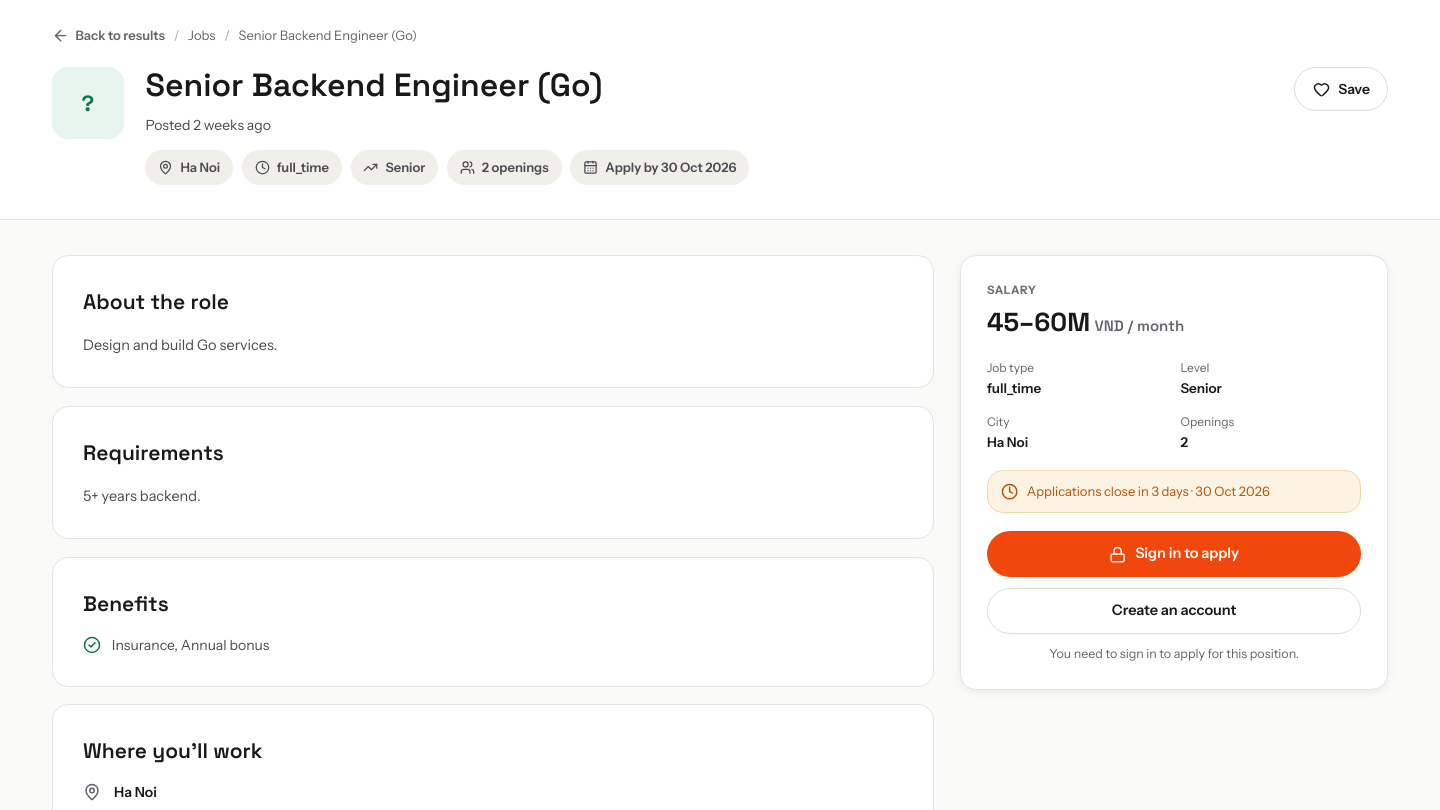
Scenario: CareerJobPage Save Job Integration › intercepts unauthenticated guests and opens sign-in modal with next url
What coordinates should you click on to do the following:
click the button "Save"
I would click on:
 (1341, 89)
Its box is x1=1294 y1=67 x2=1388 y2=111.
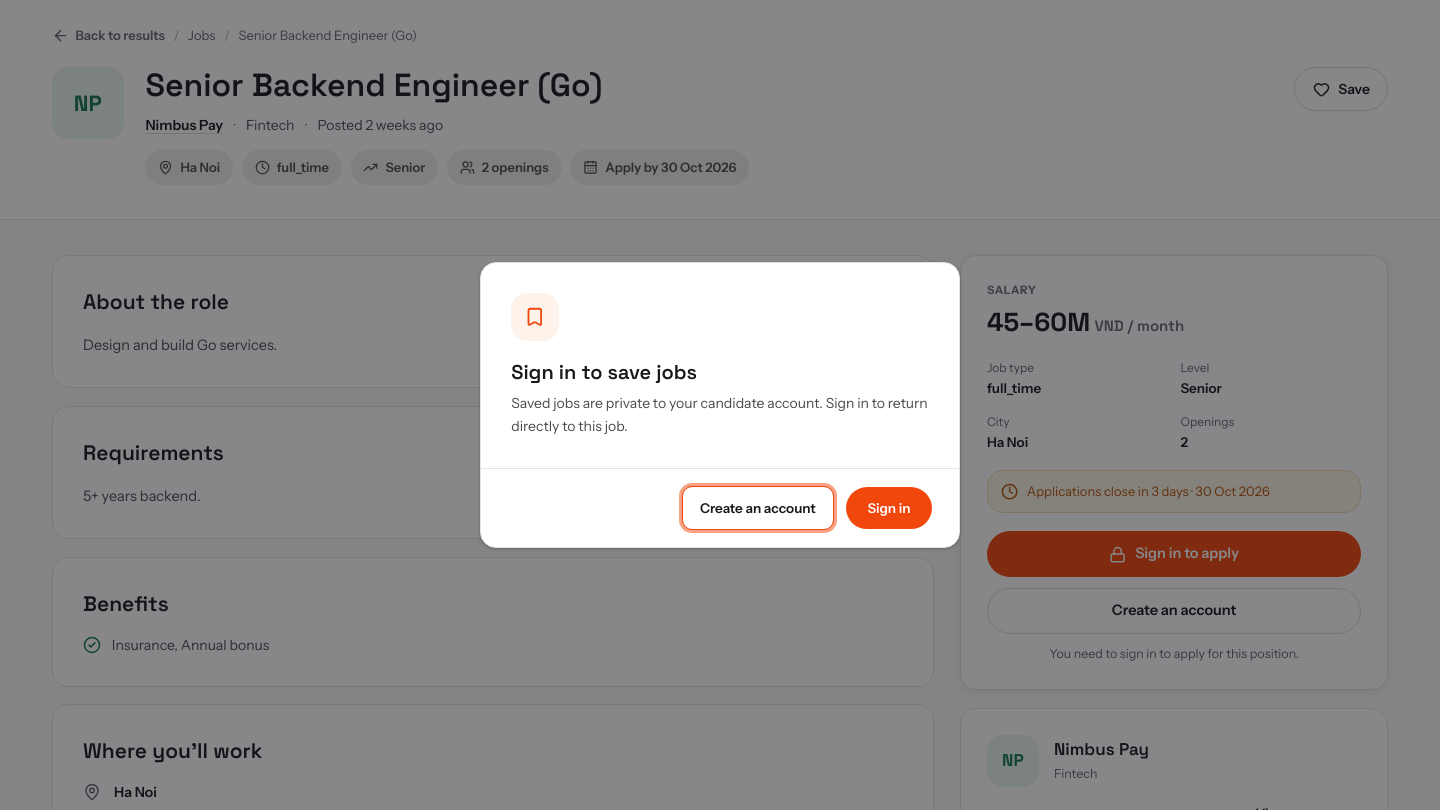
Check: the heading "Sign in to save jobs" is shown, box x1=511 y1=359 x2=697 y2=385
